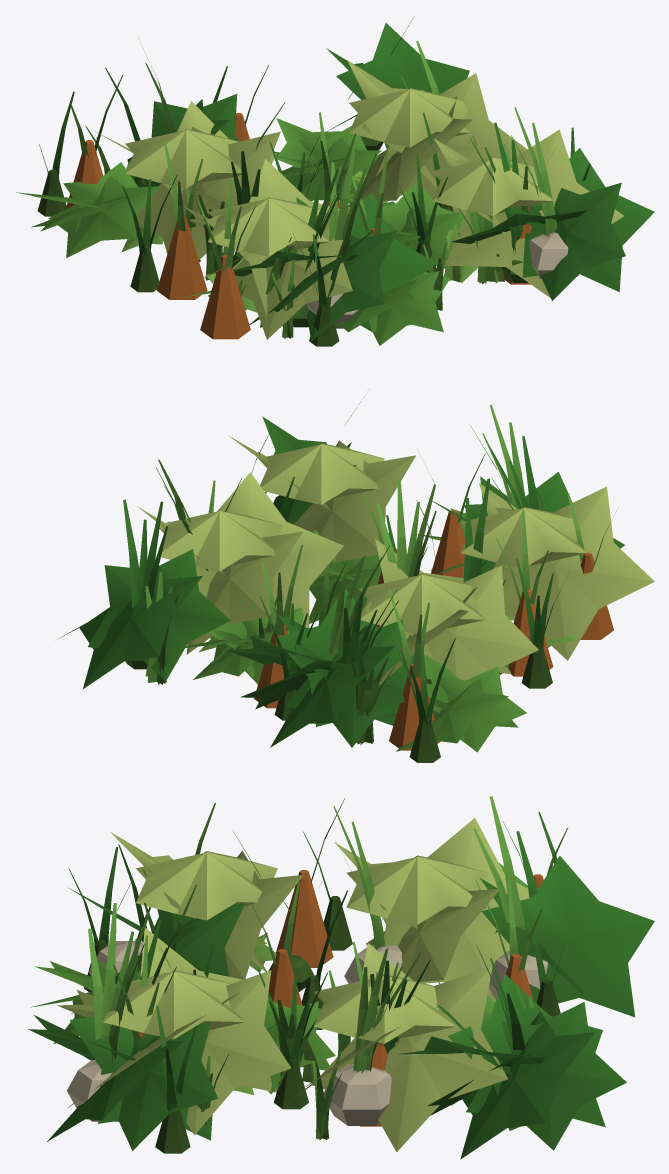
The model's file is crops-winter.glb.
The picture shows the model from 3 angles, top to bottom: view 1: azimuth 30°, elevation 25°; view 2: azimuth 150°, elevation 25°; view 3: azimuth 270°, elevation 25°; orthographic projection. The views are drawn at different scales.
Visible parts, largest first — view 1: SM_crop_cabbage_s4, SM_crop_cabbage_s3, SM_crop_cabbage_s2, SM_crop_carrot_s4, SM_crop_carrot_s3, SM_crop_garlic_s4, SM_crop_garlic_s3, SM_crop_garlic_s2, SM_crop_carrot_s2, SM_crop_cabbage_s1, SM_crop_garlic_s1; view 2: SM_crop_cabbage_s4, SM_crop_cabbage_s3, SM_crop_cabbage_s2, SM_crop_carrot_s4, SM_crop_garlic_s3, SM_crop_carrot_s3, SM_crop_garlic_s4, SM_crop_garlic_s2, SM_crop_carrot_s2; view 3: SM_crop_cabbage_s4, SM_crop_cabbage_s3, SM_crop_garlic_s4, SM_crop_carrot_s3, SM_crop_carrot_s4, SM_crop_garlic_s3, SM_crop_cabbage_s2, SM_crop_carrot_s2, SM_crop_garlic_s2, SM_crop_cabbage_s1.
Part boxes in pixels (x1=…): SM_crop_cabbage_s4: x1=93, y1=60, x2=623, y2=339; SM_crop_cabbage_s3: x1=127, y1=22, x2=654, y2=341; SM_crop_cabbage_s2: x1=16, y1=118, x2=463, y2=345; SM_crop_carrot_s4: x1=66, y1=65, x2=538, y2=339; SM_crop_carrot_s3: x1=37, y1=66, x2=590, y2=346; SM_crop_garlic_s4: x1=138, y1=38, x2=578, y2=328; SM_crop_garlic_s3: x1=105, y1=16, x2=527, y2=327; SM_crop_garlic_s2: x1=85, y1=84, x2=495, y2=327; SM_crop_carrot_s2: x1=141, y1=136, x2=476, y2=338; SM_crop_cabbage_s1: x1=121, y1=171, x2=478, y2=312; SM_crop_garlic_s1: x1=168, y1=187, x2=461, y2=296; SM_crop_cabbage_s4: x1=137, y1=435, x2=654, y2=685; SM_crop_cabbage_s3: x1=57, y1=416, x2=624, y2=747; SM_crop_cabbage_s2: x1=168, y1=508, x2=526, y2=752; SM_crop_carrot_s4: x1=181, y1=453, x2=617, y2=750; SM_crop_garlic_s3: x1=123, y1=436, x2=539, y2=669; SM_crop_carrot_s3: x1=251, y1=428, x2=561, y2=762; SM_crop_garlic_s4: x1=155, y1=398, x2=525, y2=658; SM_crop_garlic_s2: x1=145, y1=565, x2=505, y2=745; SM_crop_carrot_s2: x1=252, y1=491, x2=435, y2=665; SM_crop_cabbage_s4: x1=57, y1=818, x2=529, y2=1151; SM_crop_cabbage_s3: x1=28, y1=856, x2=654, y2=1159; SM_crop_garlic_s4: x1=67, y1=796, x2=548, y2=1125; SM_crop_carrot_s3: x1=69, y1=812, x2=562, y2=1153; SM_crop_carrot_s4: x1=113, y1=798, x2=568, y2=1126; SM_crop_garlic_s3: x1=118, y1=831, x2=538, y2=1053; SM_crop_cabbage_s2: x1=31, y1=863, x2=527, y2=1105; SM_crop_carrot_s2: x1=137, y1=907, x2=497, y2=1140; SM_crop_garlic_s2: x1=143, y1=870, x2=533, y2=1076; SM_crop_cabbage_s1: x1=233, y1=932, x2=276, y2=1094.
Bounding box in the file's own units: 1.58 × 0.5448 × 1.63.
